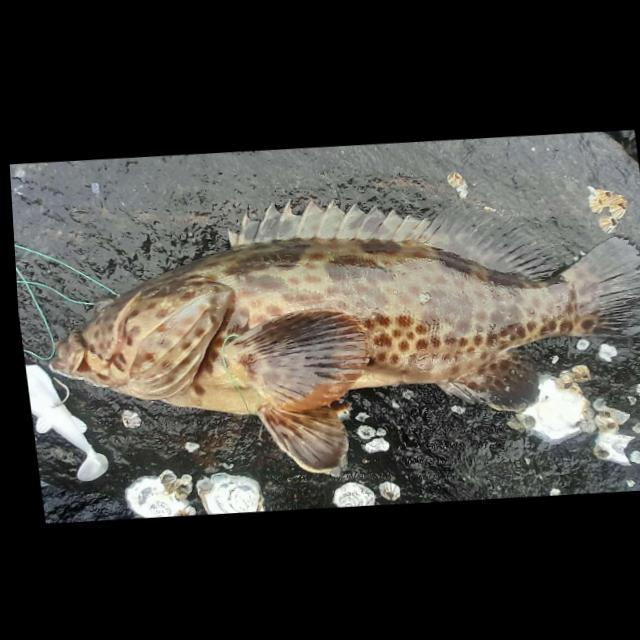Groupers: (24, 167, 640, 494)
